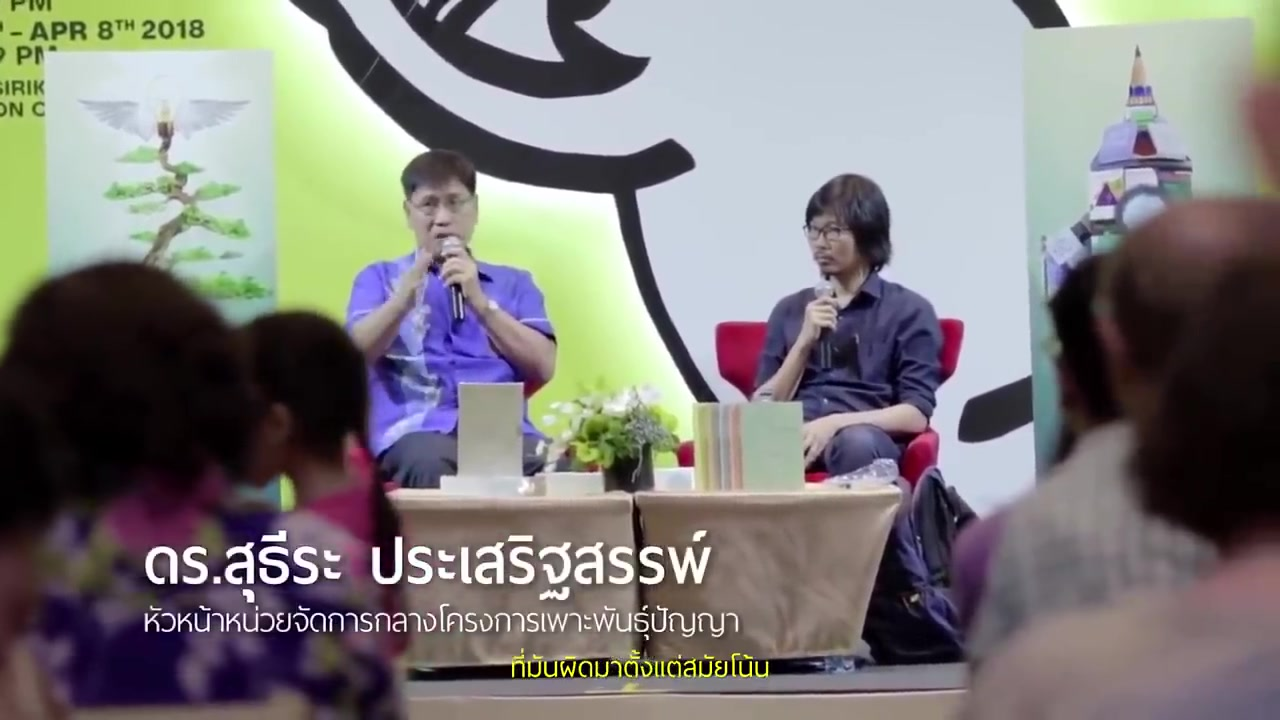text-label: (509, 647, 775, 681)
